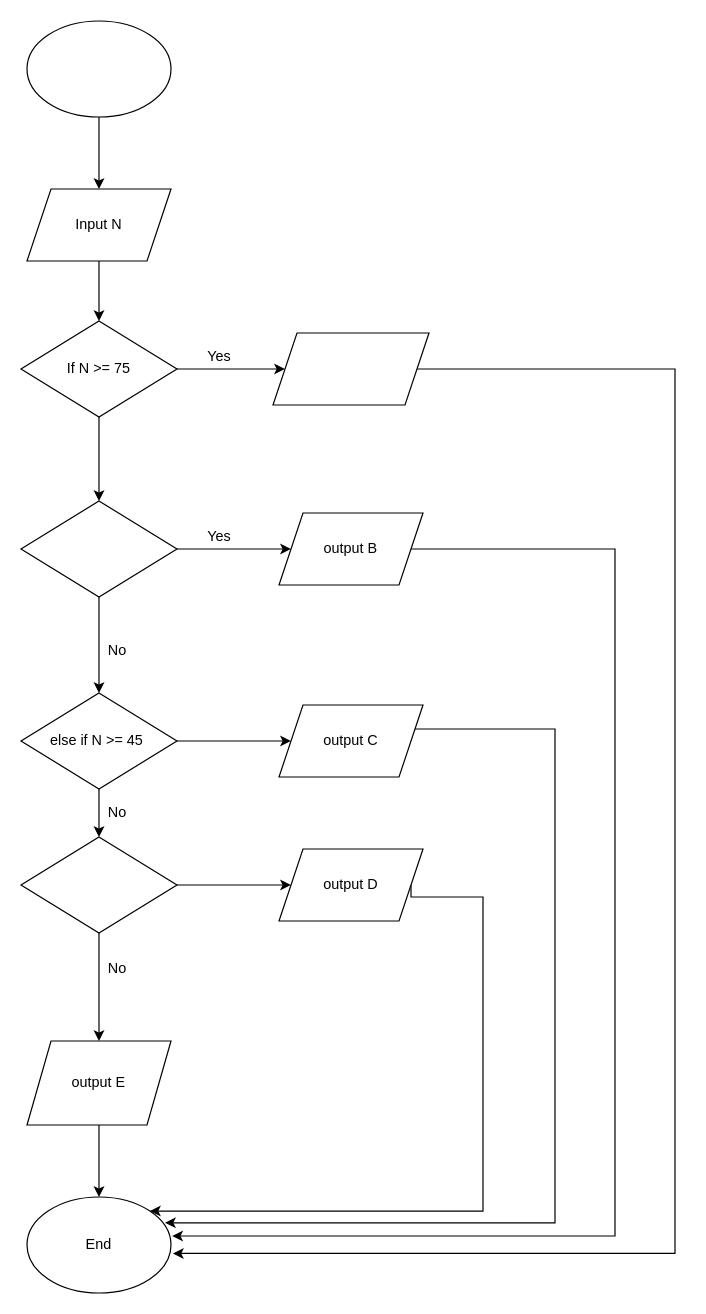
The diagram is 706 pixels wide and 1314 high, and some of its shapes have lost their labels. The shapes that lost their labels are listed below. From the top down, each one's centre as x and y in pixels, then its label:
point 98,68: Start
point 350,368: output A
point 98,548: else if N >=60
point 98,884: else if N >= 35
